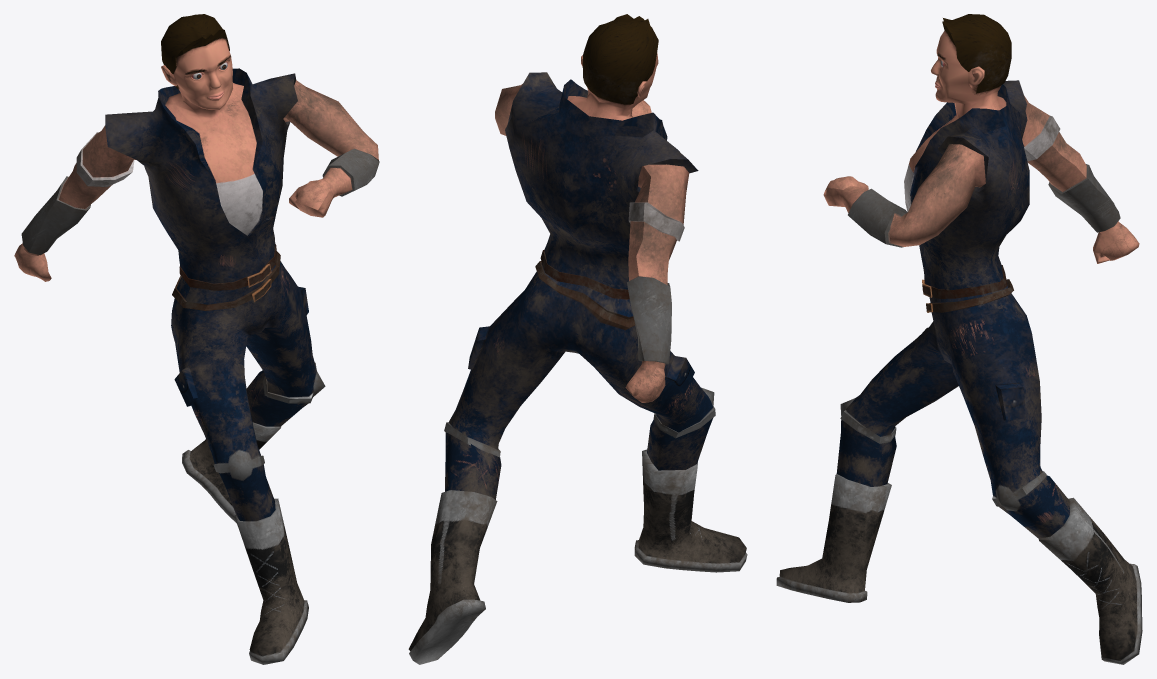
File: Anim_ataque_f3_jugador.0026.obj
The picture shows the model from 3 angles, left to right: view 1: azimuth 30°, elevation 25°; view 2: azimuth 150°, elevation 25°; view 3: azimuth 270°, elevation 25°; orthographic projection. The views are drawn at different scales.
Visible parts, largest first — view 1: polySurface1; view 2: polySurface1; view 3: polySurface1.
Part boxes in pixels (x1=…): polySurface1: x1=14, y1=14, x2=379, y2=664; polySurface1: x1=408, y1=14, x2=747, y2=664; polySurface1: x1=776, y1=14, x2=1142, y2=664.
Bounding box in the file's own units: 4.33 × 9.42 × 5.3.
